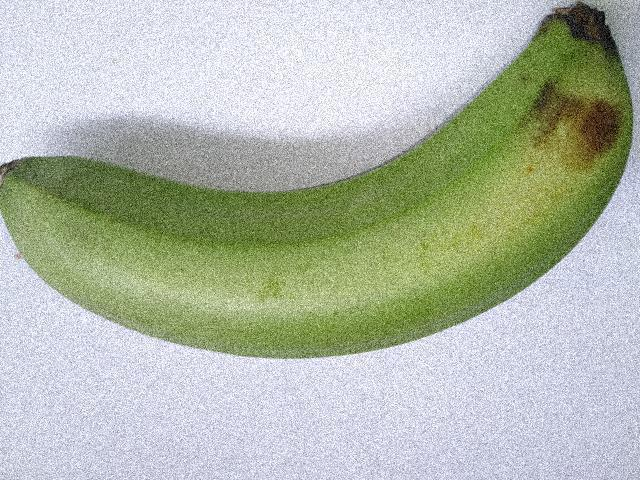freshunripe: (0, 4, 639, 383)
